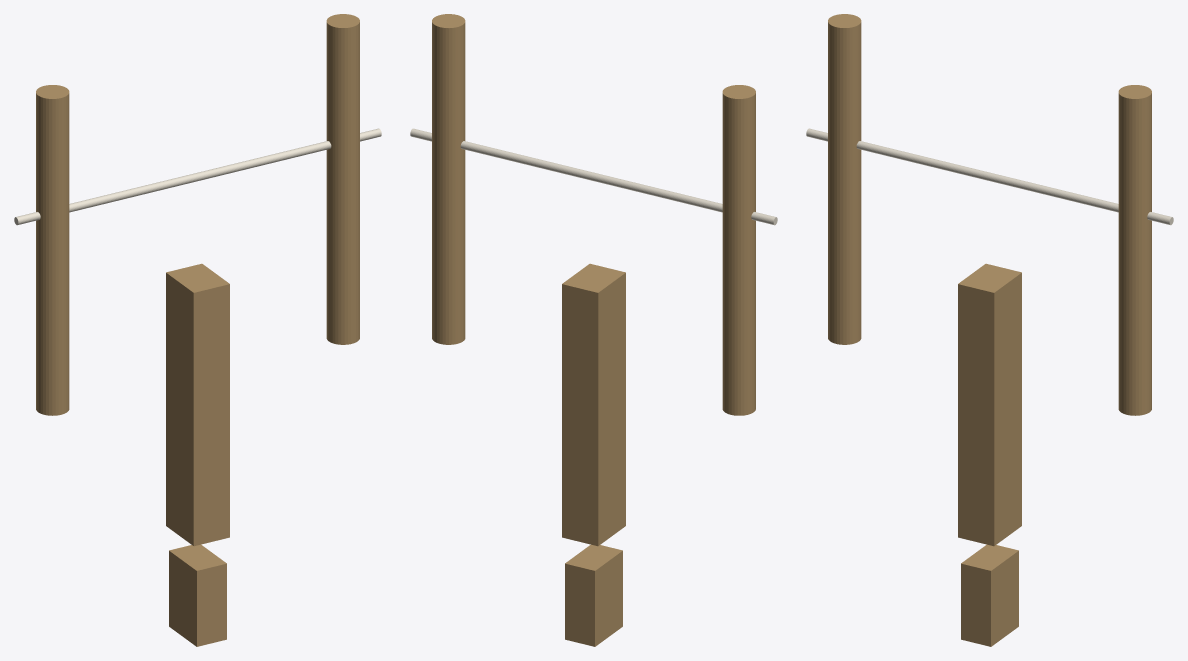
Rendered from crossbow.glb.
3 renders of one model, left to right at view 1: azimuth 30°, elevation 25°; view 2: azimuth 150°, elevation 25°; view 3: azimuth 330°, elevation 25°, orthographic.
Visible parts, largest first — view 1: Frame, LimbL, LimbR, Grip, String; view 2: Frame, LimbL, LimbR, Grip, String; view 3: Frame, LimbR, LimbL, Grip, String.
Boxes of the visible parts, x1=… form: Frame: x1=166, y1=263, x2=229, y2=546; LimbL: x1=36, y1=85, x2=69, y2=415; LimbR: x1=326, y1=14, x2=359, y2=344; Grip: x1=169, y1=544, x2=226, y2=646; String: x1=14, y1=128, x2=381, y2=225; Frame: x1=562, y1=263, x2=625, y2=546; LimbL: x1=722, y1=85, x2=755, y2=415; LimbR: x1=432, y1=14, x2=465, y2=344; Grip: x1=565, y1=544, x2=622, y2=646; String: x1=410, y1=128, x2=777, y2=225; Frame: x1=958, y1=263, x2=1021, y2=546; LimbR: x1=1118, y1=85, x2=1151, y2=415; LimbL: x1=828, y1=14, x2=861, y2=344; Grip: x1=961, y1=544, x2=1018, y2=646; String: x1=806, y1=128, x2=1173, y2=225.
Bounding box in the file's own units: 0.3 × 0.455 × 0.04.
